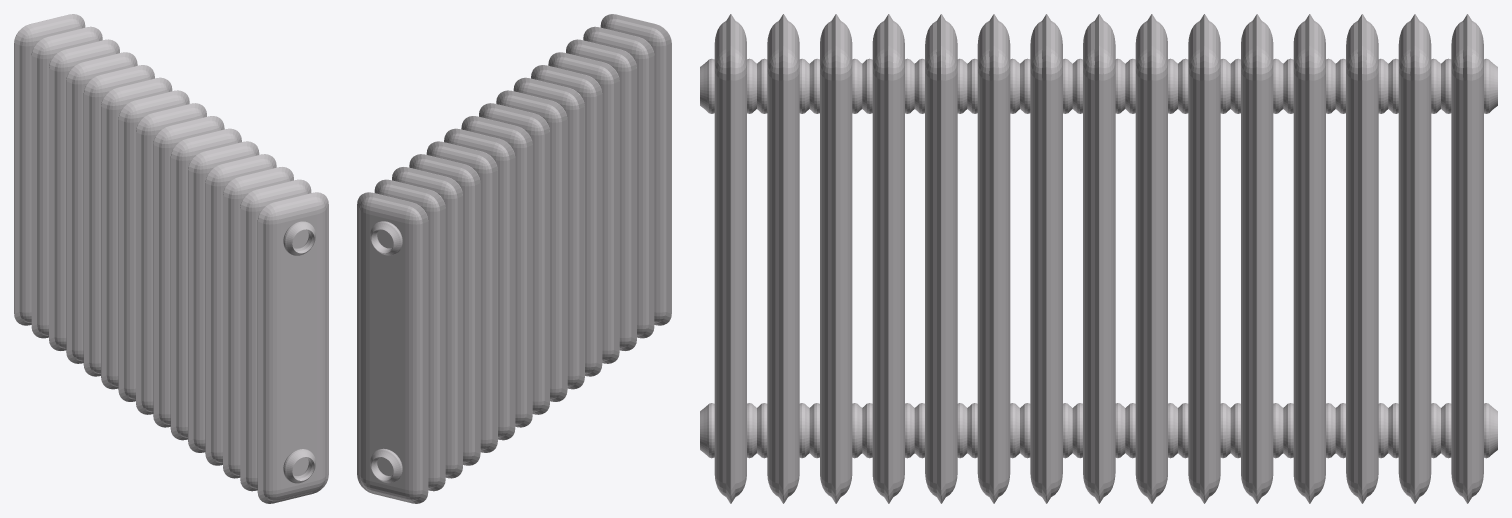
The model's file is verwarming.fbx.
3 views of the same model, side by side, from view 1: azimuth 30°, elevation 25°; view 2: azimuth 150°, elevation 25°; view 3: azimuth 270°, elevation 25° (orthographic). The views are drawn at different scales.
Visible parts, largest first — view 1: node_id4; view 2: node_id4; view 3: node_id4.
Part boxes in pixels (box(x1,y1,x2,y2)): node_id4: box(14, 14, 328, 503); node_id4: box(357, 14, 671, 503); node_id4: box(700, 14, 1497, 503).
Size of the model in its own units: 0.0302 by 0.1224 by 0.1944.
1 material, 1 textured.
